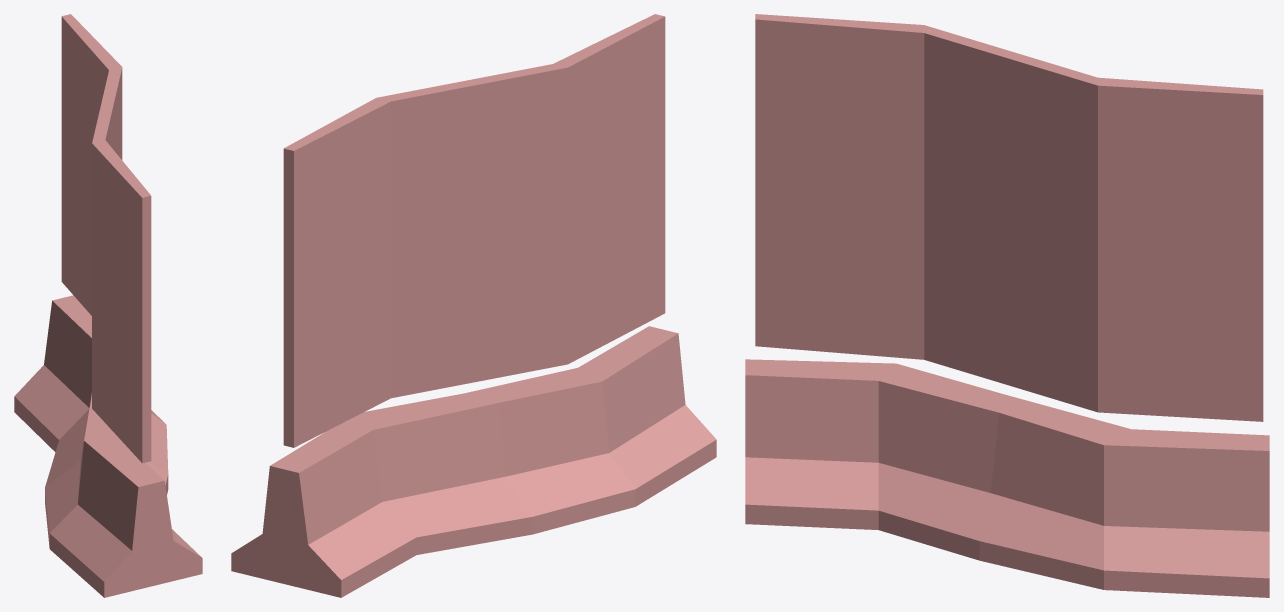
Rendered from Fence_C_C_COL.fbx.
3 renders of one model, left to right at view 1: azimuth 30°, elevation 25°; view 2: azimuth 150°, elevation 25°; view 3: azimuth 270°, elevation 25°, orthographic. The views are drawn at different scales.
Parts seen in each view (by area): view 1: Fence_C_C_Wire_COL, Fence_C_C_COL; view 2: Fence_C_C_Wire_COL, Fence_C_C_COL; view 3: Fence_C_C_Wire_COL, Fence_C_C_COL.
Boxes of the visible parts, x1=… form: Fence_C_C_Wire_COL: x1=61, y1=14, x2=151, y2=463; Fence_C_C_COL: x1=14, y1=295, x2=202, y2=597; Fence_C_C_Wire_COL: x1=283, y1=14, x2=665, y2=447; Fence_C_C_COL: x1=231, y1=326, x2=716, y2=597; Fence_C_C_Wire_COL: x1=755, y1=14, x2=1263, y2=421; Fence_C_C_COL: x1=745, y1=359, x2=1269, y2=597.
Bounding box in the file's own units: 180 × 301 × 300.
